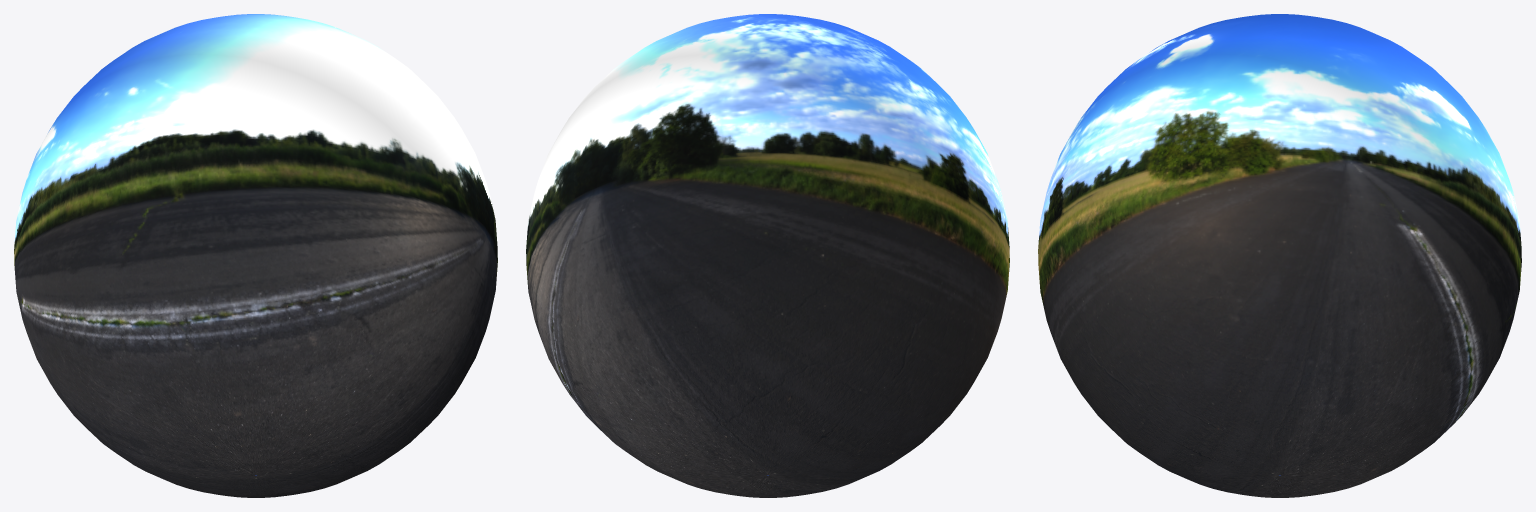
The model's file is stancebeam_hdri.glb.
3 renders of one model, left to right at view 1: azimuth 30°, elevation 25°; view 2: azimuth 150°, elevation 25°; view 3: azimuth 270°, elevation 25°, orthographic.
Visible parts, largest first — view 1: hdri; view 2: hdri; view 3: hdri.
Boxes of the visible parts, <box> form: hdri: <box>14,14,497,497</box>; hdri: <box>526,14,1009,497</box>; hdri: <box>1038,14,1521,497</box>.
Size of the model in its own units: 565 by 566 by 565.
Materials: 1 (1 with a texture image).
